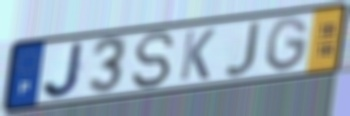3: (87, 35, 129, 97)
G: (265, 15, 311, 74)
J: (40, 40, 87, 101), (222, 19, 264, 79)
K: (177, 26, 218, 83)
S: (130, 30, 177, 91)
